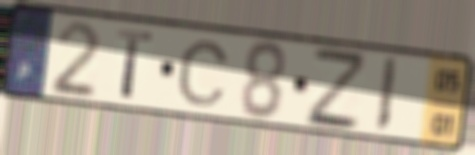2: (50, 18, 101, 100)
8: (238, 38, 291, 123)
C: (175, 38, 232, 109)
I: (372, 54, 401, 137)
T: (114, 26, 156, 103)
Z: (304, 43, 367, 133)
